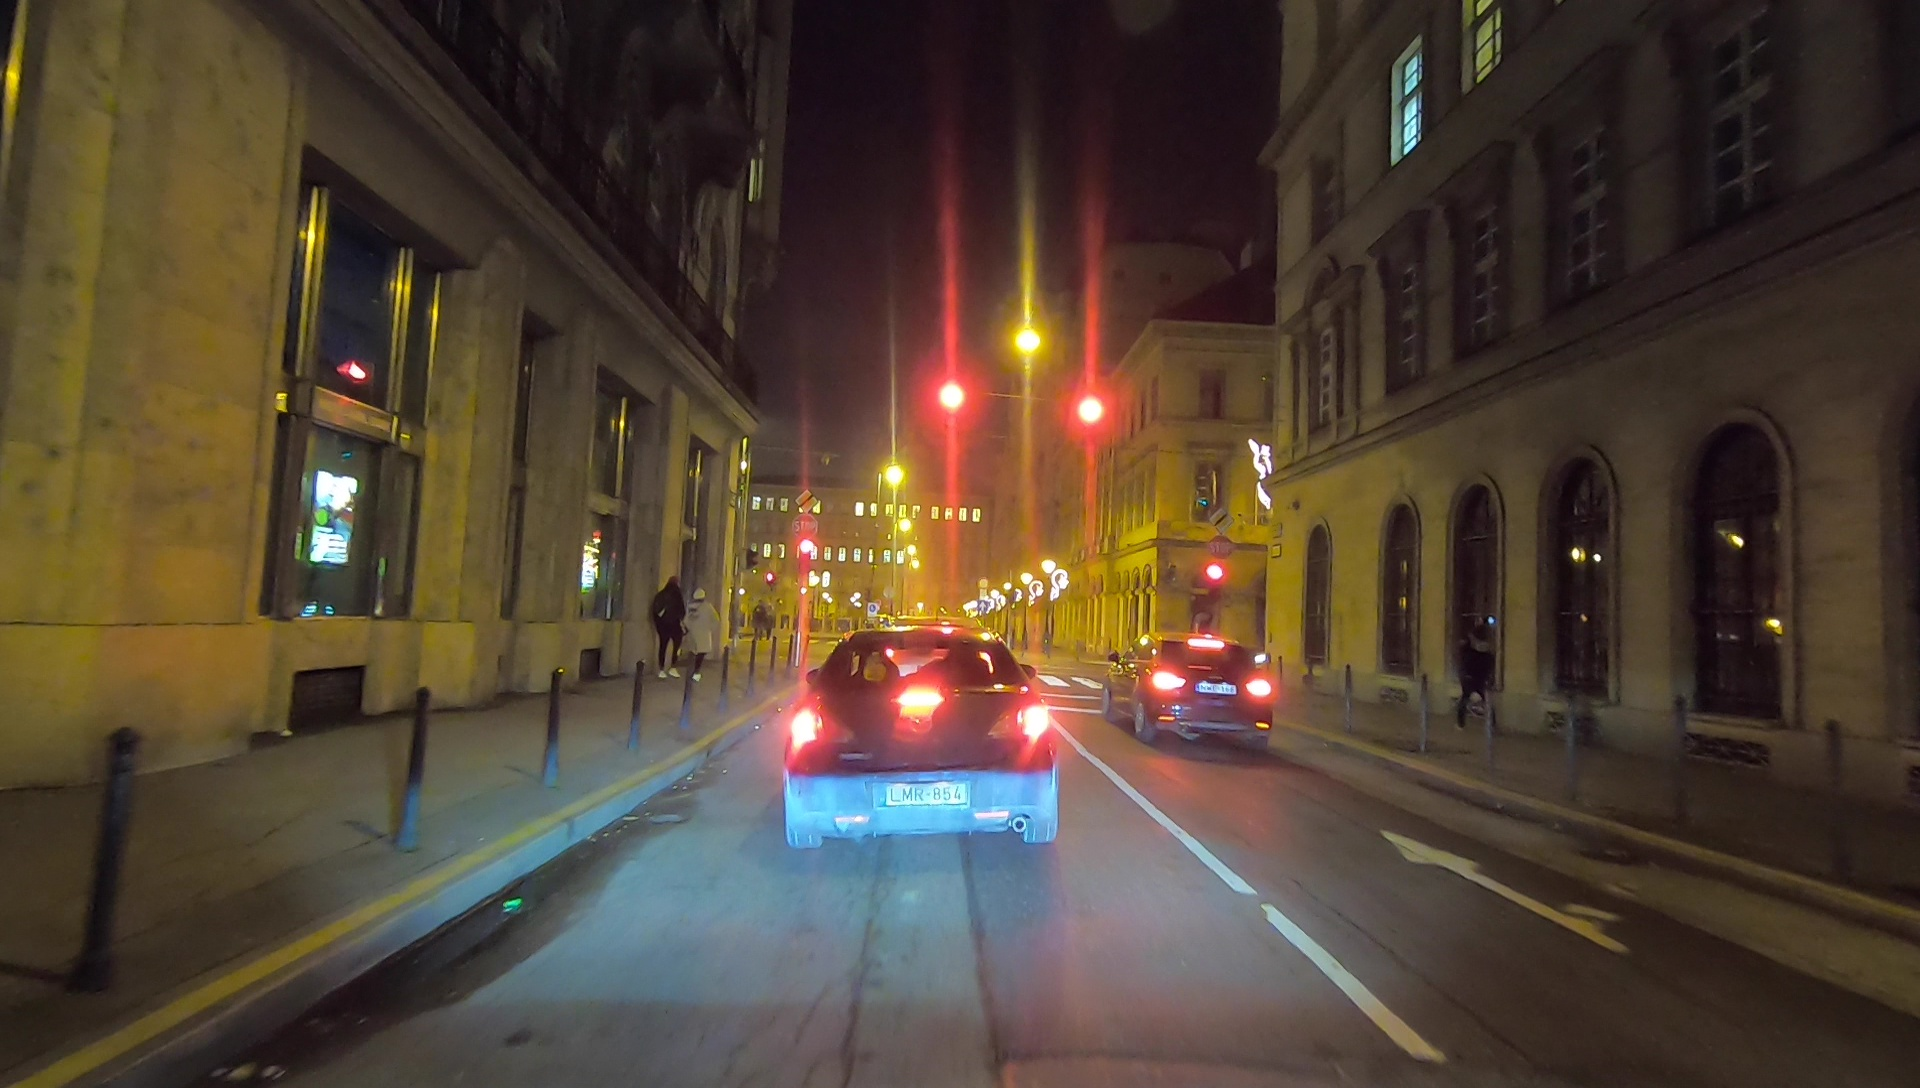person: (1449, 613, 1497, 737), (645, 571, 684, 682), (686, 586, 723, 689)
